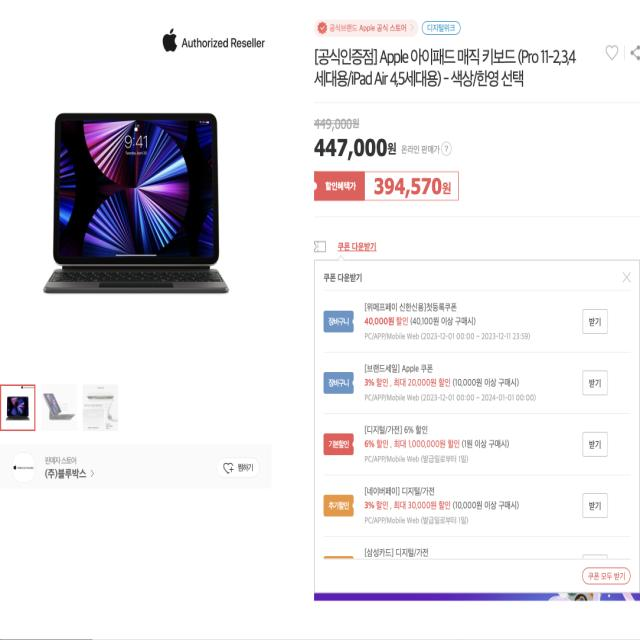product_discount_price: (365, 174, 462, 202)
product_name: (308, 43, 589, 91)
product_original_price: (307, 137, 403, 163)
